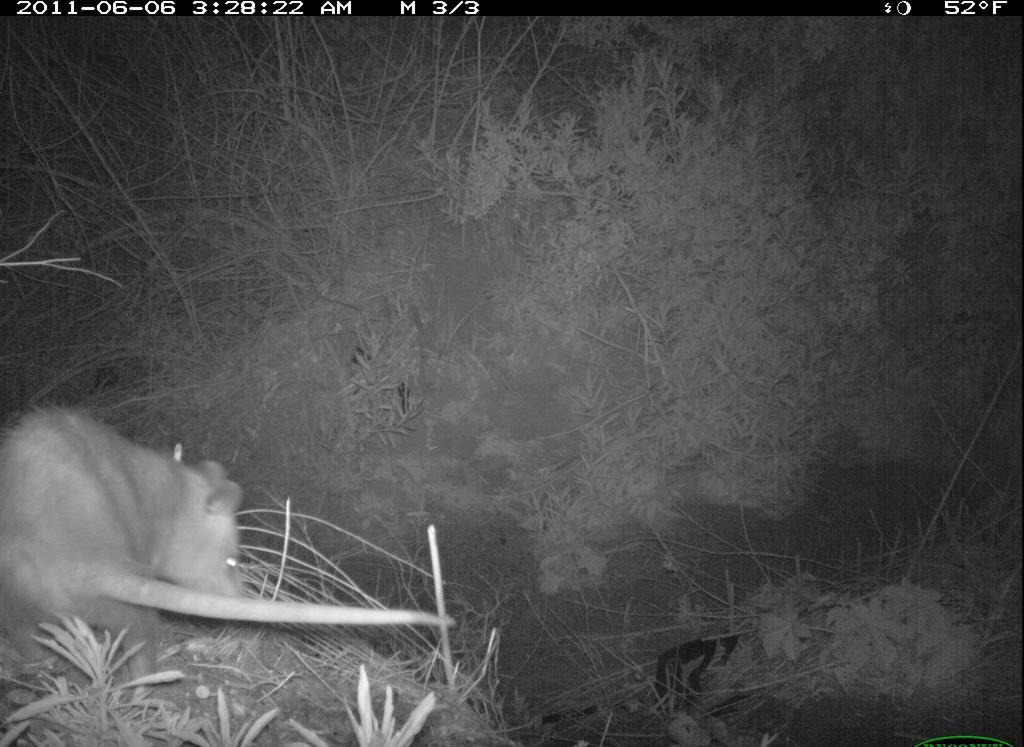opossum: (2, 391, 466, 662)
